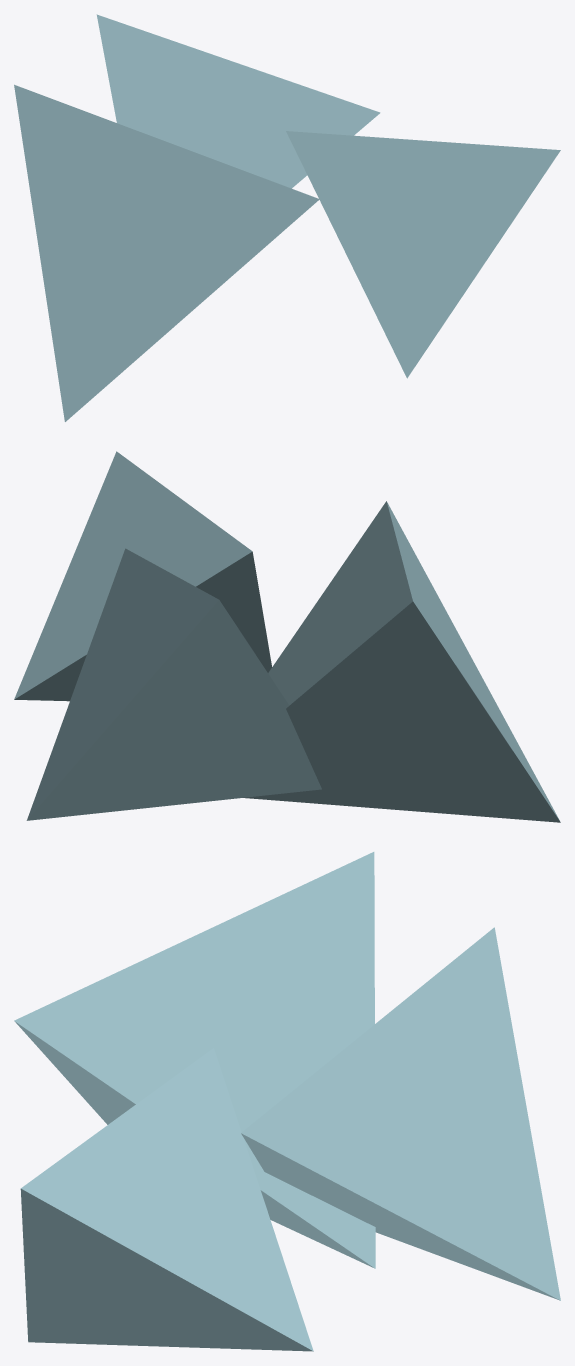
The model's file is glass_shards.glb.
The picture shows the model from 3 angles, top to bottom: view 1: azimuth 30°, elevation 25°; view 2: azimuth 150°, elevation 25°; view 3: azimuth 270°, elevation 25°; orthographic projection. The views are drawn at different scales.
Parts seen in each view (by area): view 1: glass_shards; view 2: glass_shards; view 3: glass_shards.
Part boxes in pixels (x1=…): glass_shards: x1=14, y1=14, x2=560, y2=421; glass_shards: x1=14, y1=451, x2=560, y2=822; glass_shards: x1=14, y1=852, x2=560, y2=1351.
Bounding box in the file's own units: 0.0985 × 0.0551 × 0.081.
